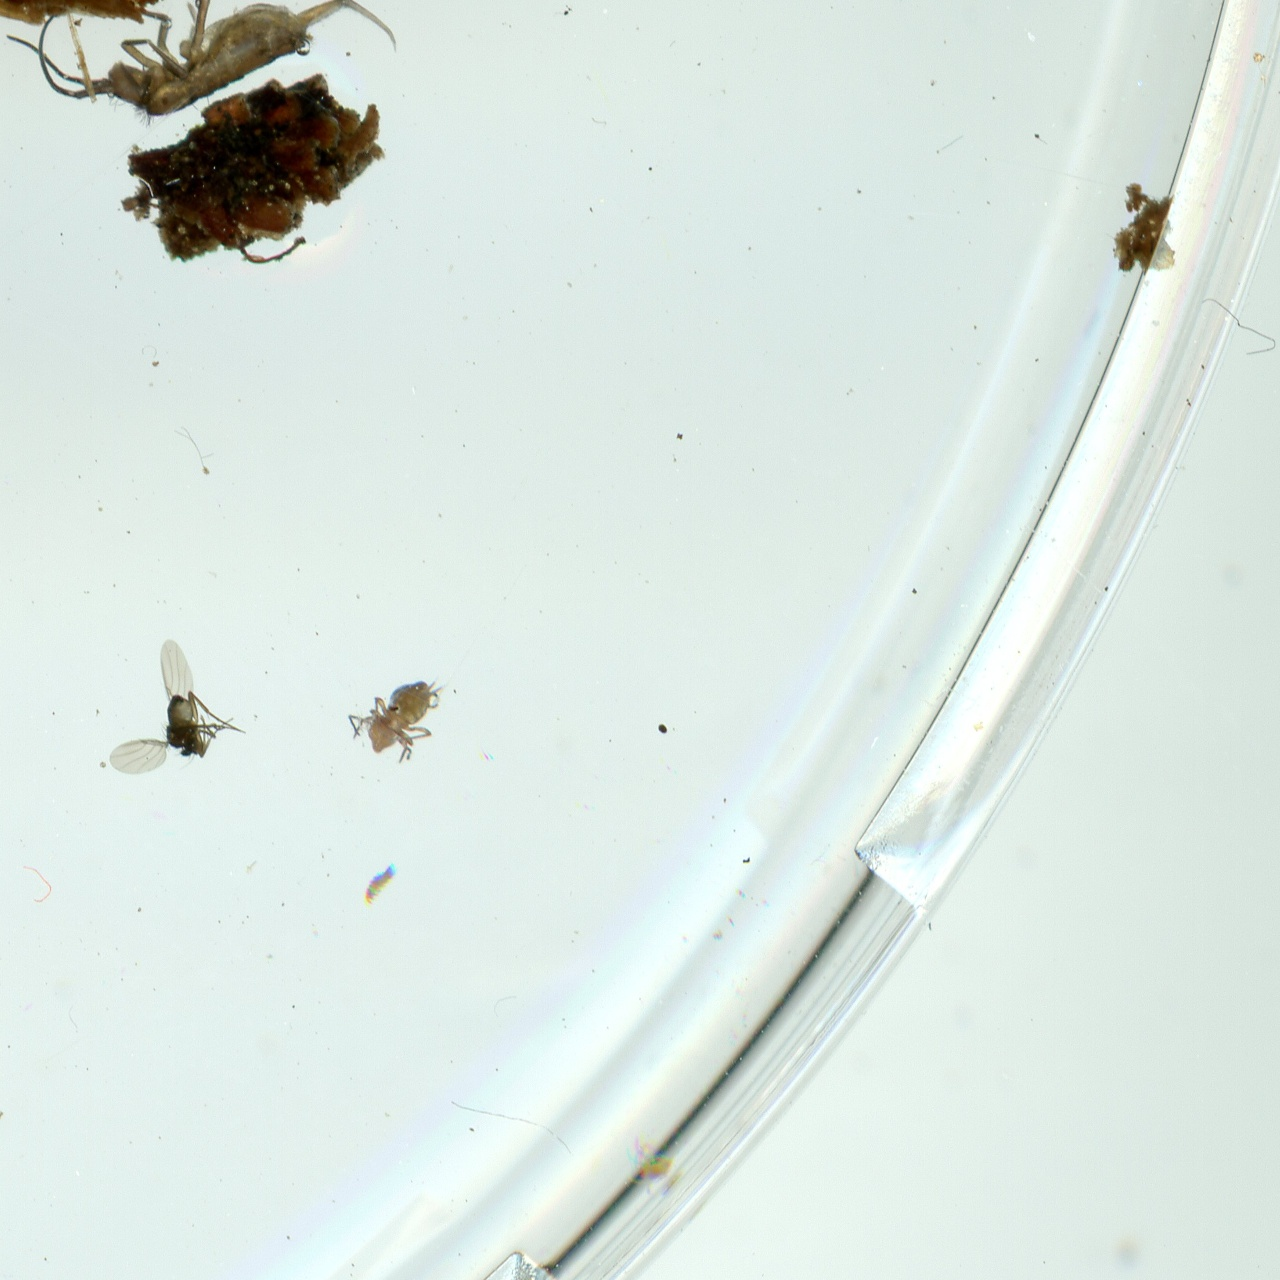arthropod: (0, 0, 407, 216), (107, 635, 250, 778), (346, 672, 452, 766), (353, 852, 404, 917)
